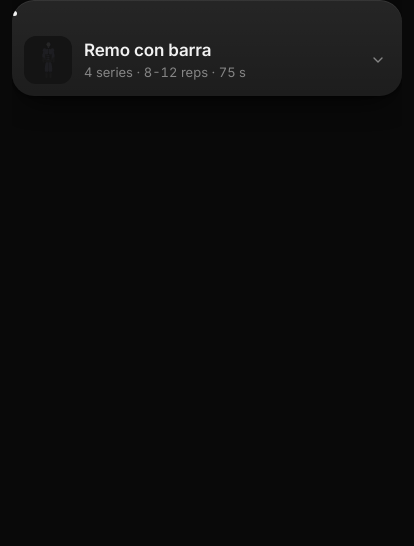
it: fila del editor de rutina › un peso guardado como número se abre con coma y una segunda coma no se guarda
Later steps or results of the test are not shown.
Click the button "Remo con barra 4 series · 8-12 reps · 75 s" at {"x": 207, "y": 60}, box top-left (12, 24), bottom-right (402, 96)
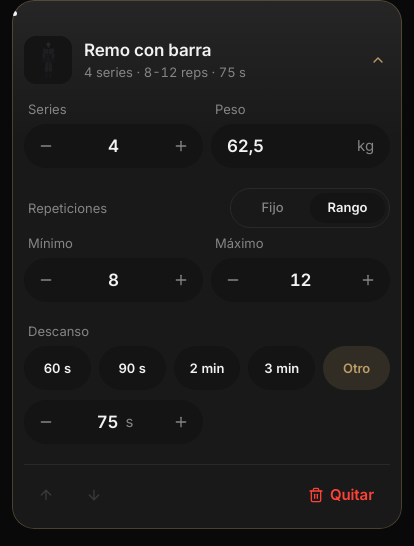
Check: the field named "Peso en kilos" holds "62,5", box top-left (227, 135), bottom-right (353, 157)
